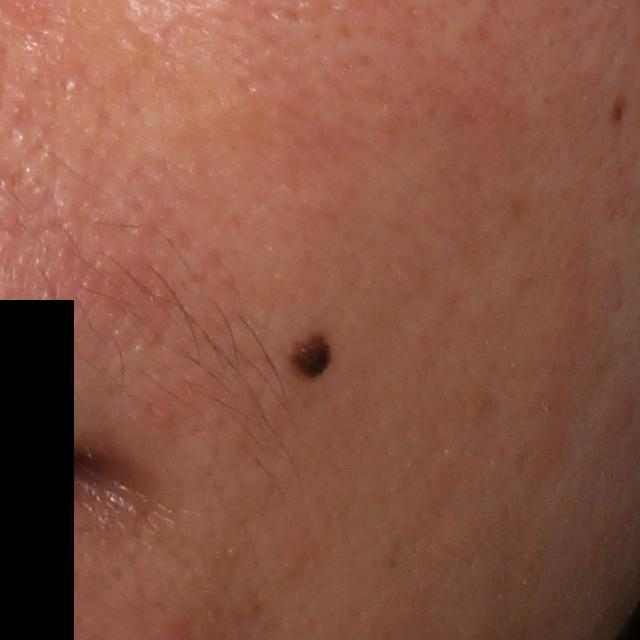nevus: (286, 325, 342, 379)
